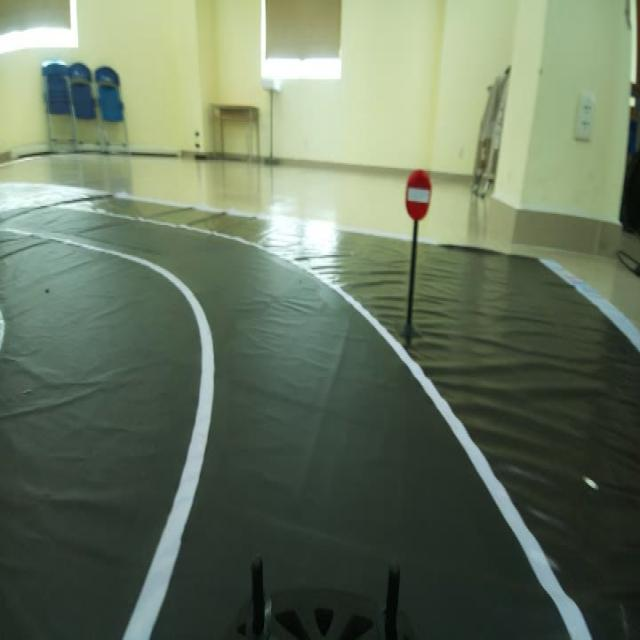no_entry: (396, 158, 438, 229)
